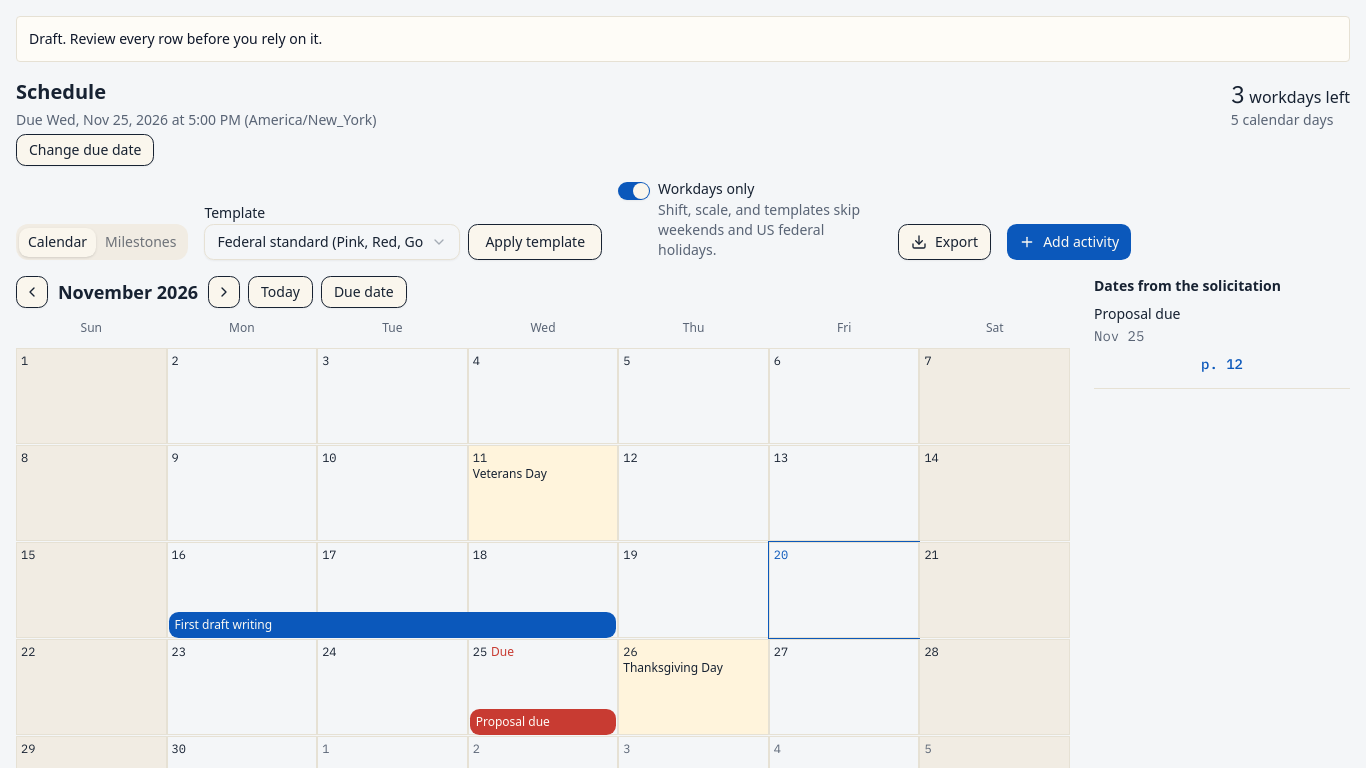
Scenario: ScheduleContainer: due date change › shows the prompt with the summary and shifts: bid, due date, schedule, in order
Click the button "Change due date" at (85, 150), box [16,134,154,166]
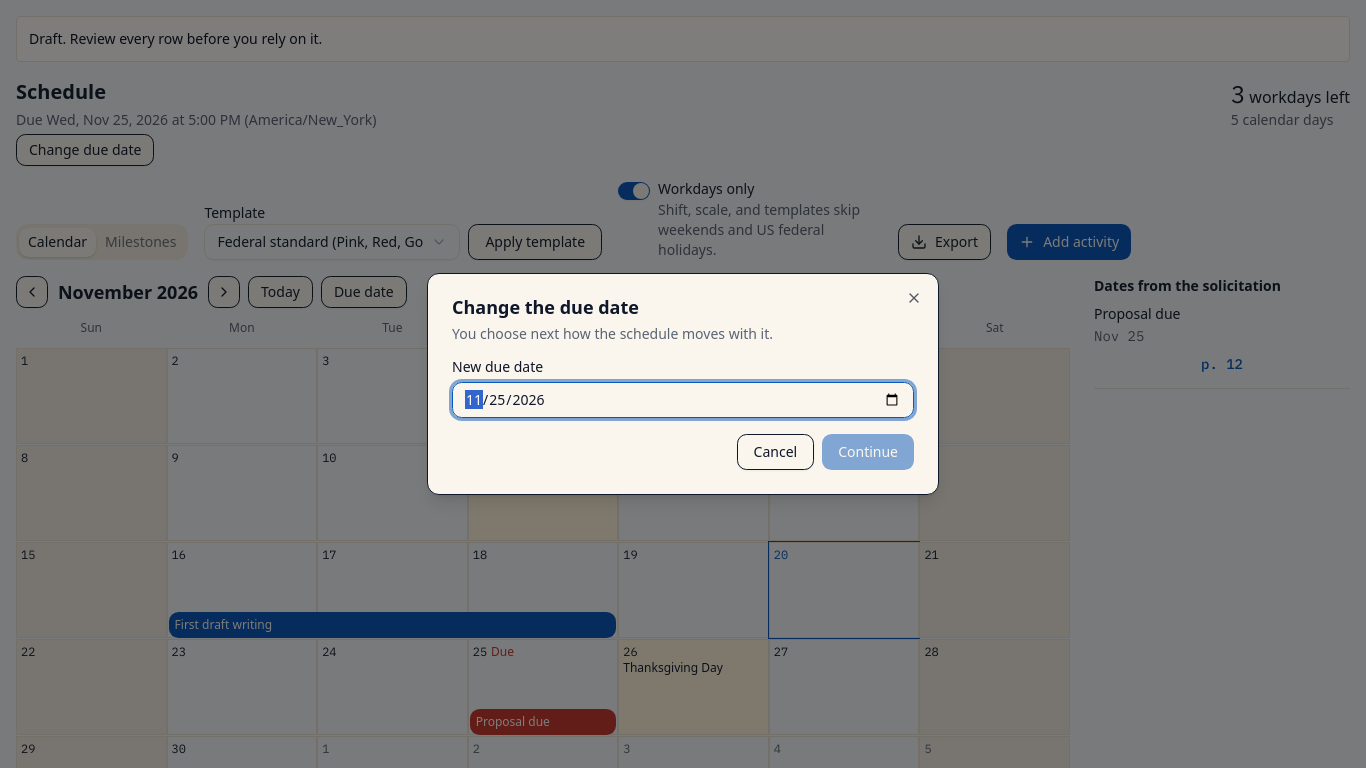
Type "2026-12-02" into the date field labelled "New due date" at (683, 400), box [452,382,914,418]
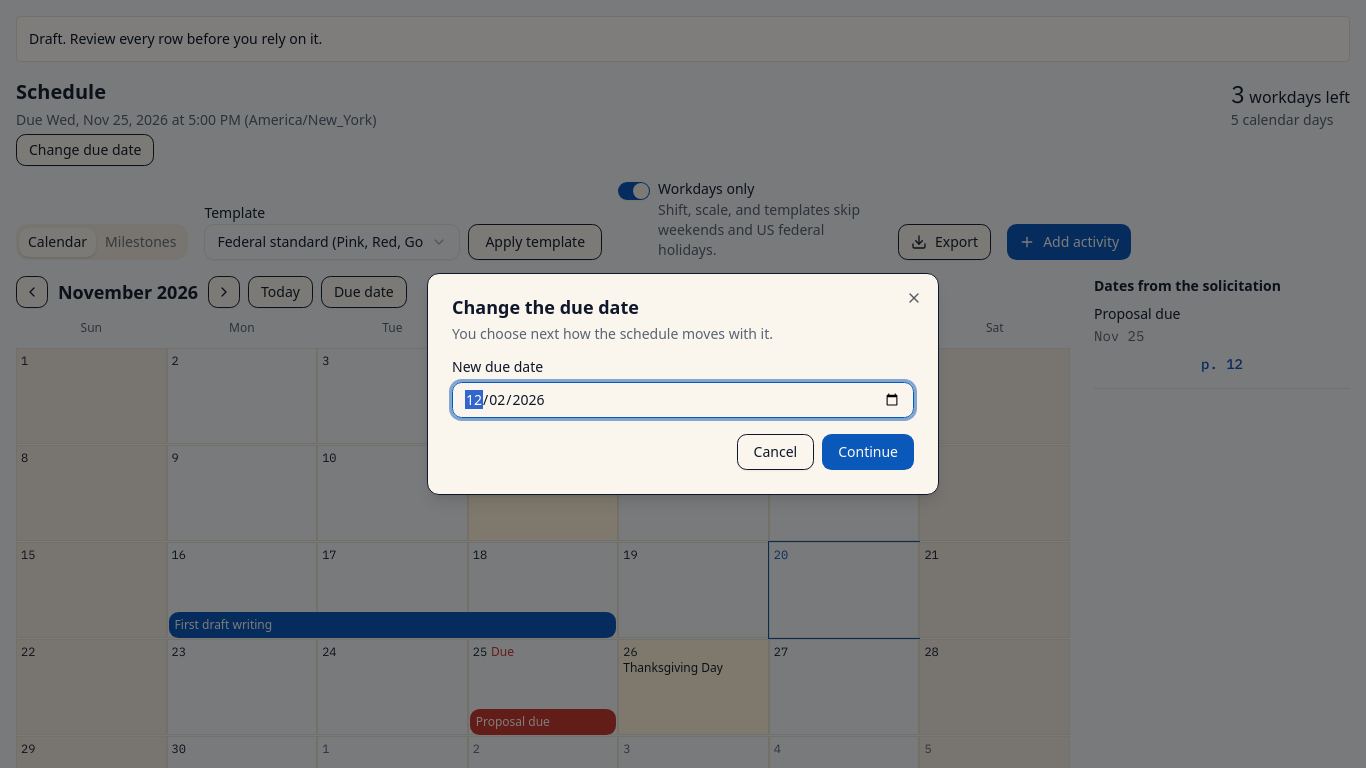
Click the button "Continue" at (868, 452), box [822,434,914,470]
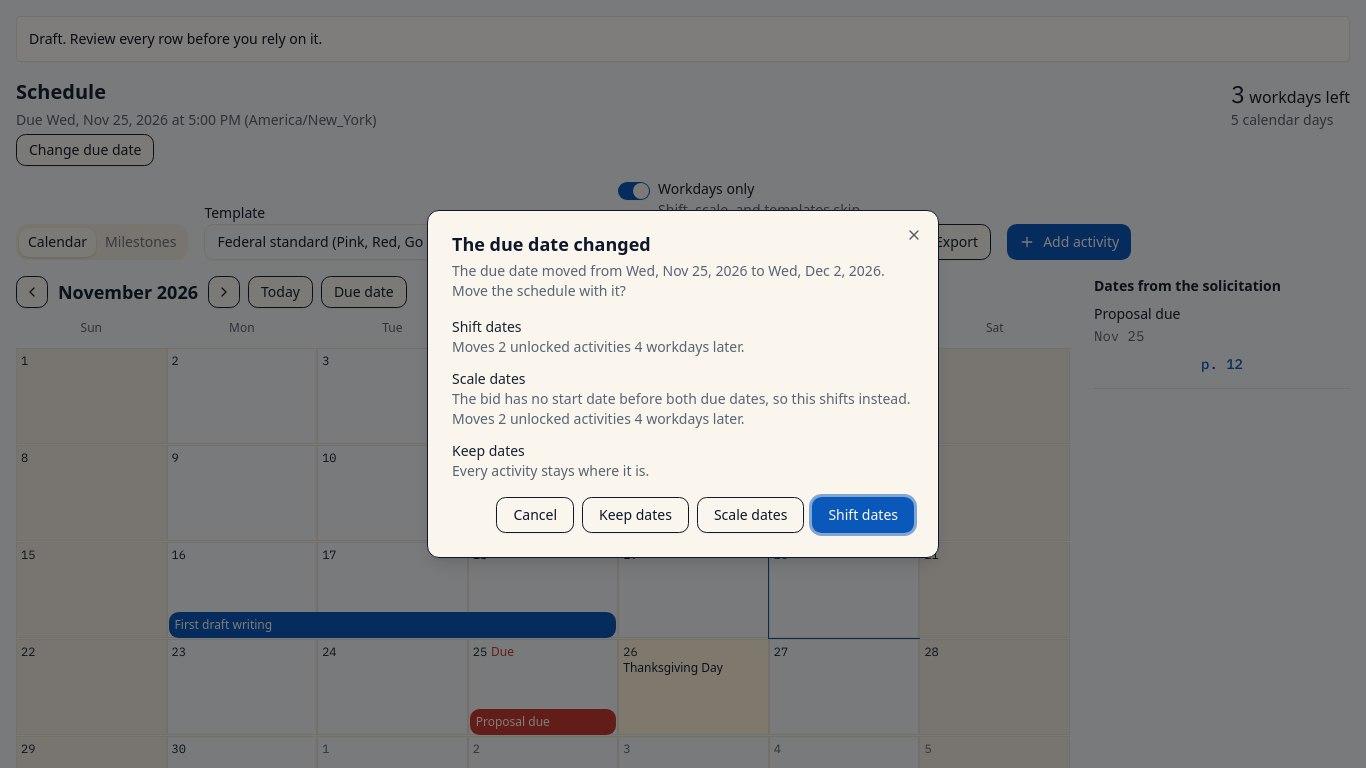
Expected: the text "Moves 2 unlocked activities 4 workdays later." is shown, [452,337,744,356]
Click the button "Shift dates" at (863, 515), box [812,497,914,533]
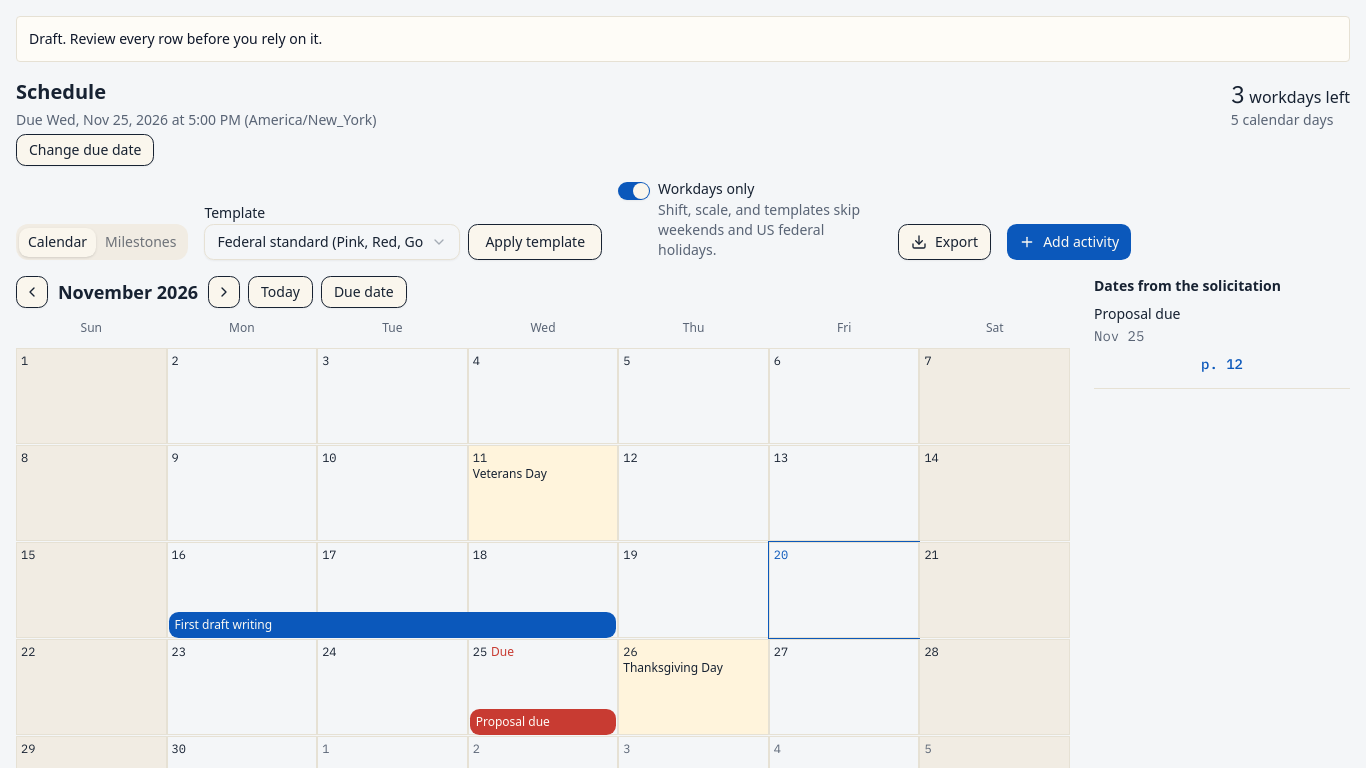
Expected: the dialog is gone
